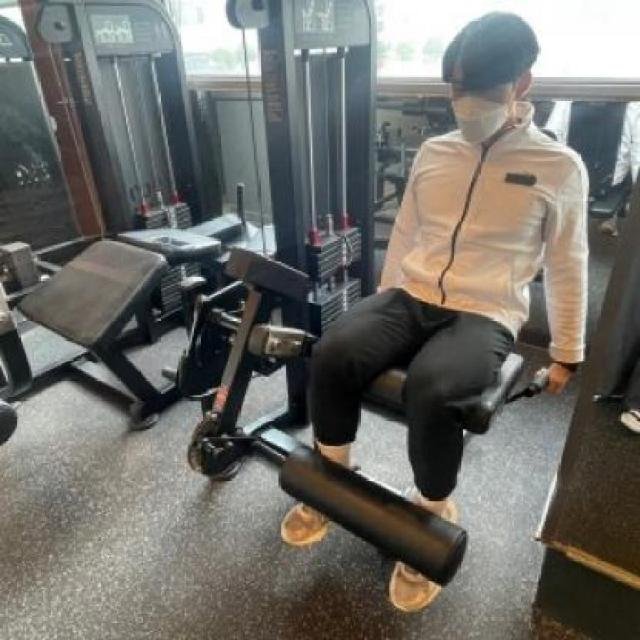leg extension: (174, 0, 640, 614)
